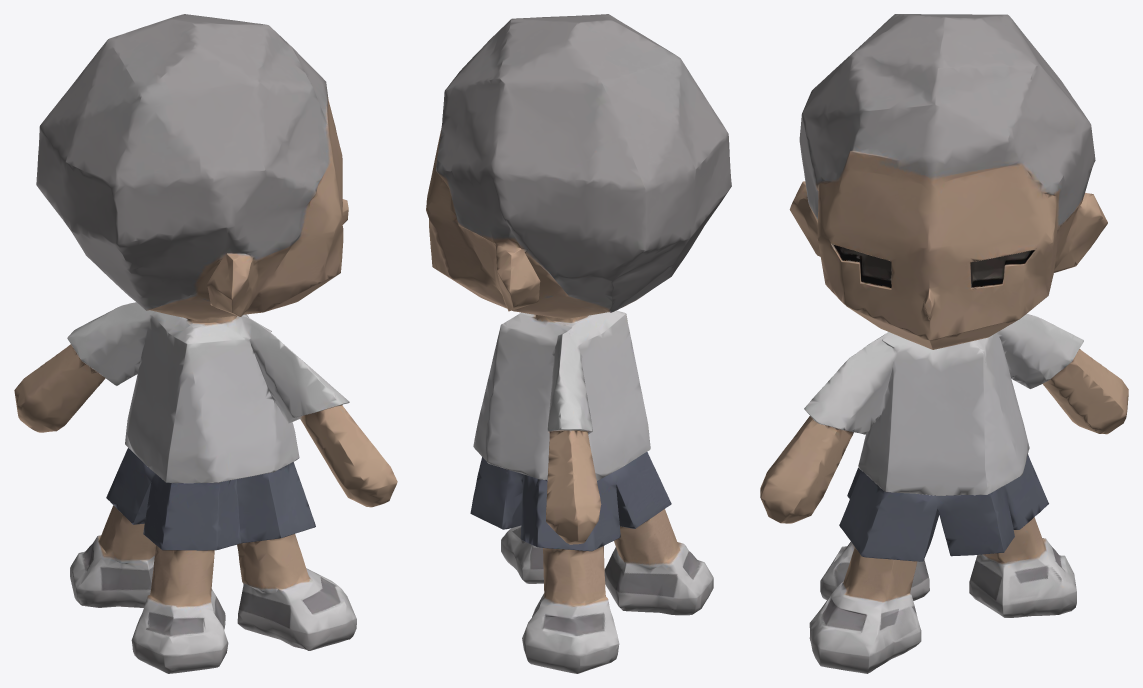
Rendered from dressed.glb.
3 renders of one model, left to right at view 1: azimuth 30°, elevation 25°; view 2: azimuth 150°, elevation 25°; view 3: azimuth 270°, elevation 25°, orthographic.
Parts seen in each view (by area): view 1: tripo_node_a9aa3aff-72ca-4acd-9682-be7e3234fa51; view 2: tripo_node_a9aa3aff-72ca-4acd-9682-be7e3234fa51; view 3: tripo_node_a9aa3aff-72ca-4acd-9682-be7e3234fa51.
Part boxes in pixels (x1,y1,x2,y2): tripo_node_a9aa3aff-72ca-4acd-9682-be7e3234fa51: [14, 14, 397, 673]; tripo_node_a9aa3aff-72ca-4acd-9682-be7e3234fa51: [426, 14, 731, 673]; tripo_node_a9aa3aff-72ca-4acd-9682-be7e3234fa51: [760, 14, 1128, 673].
Size of the model in its own units: 0.4723 by 1 by 0.5534.
1 material, 1 textured.
